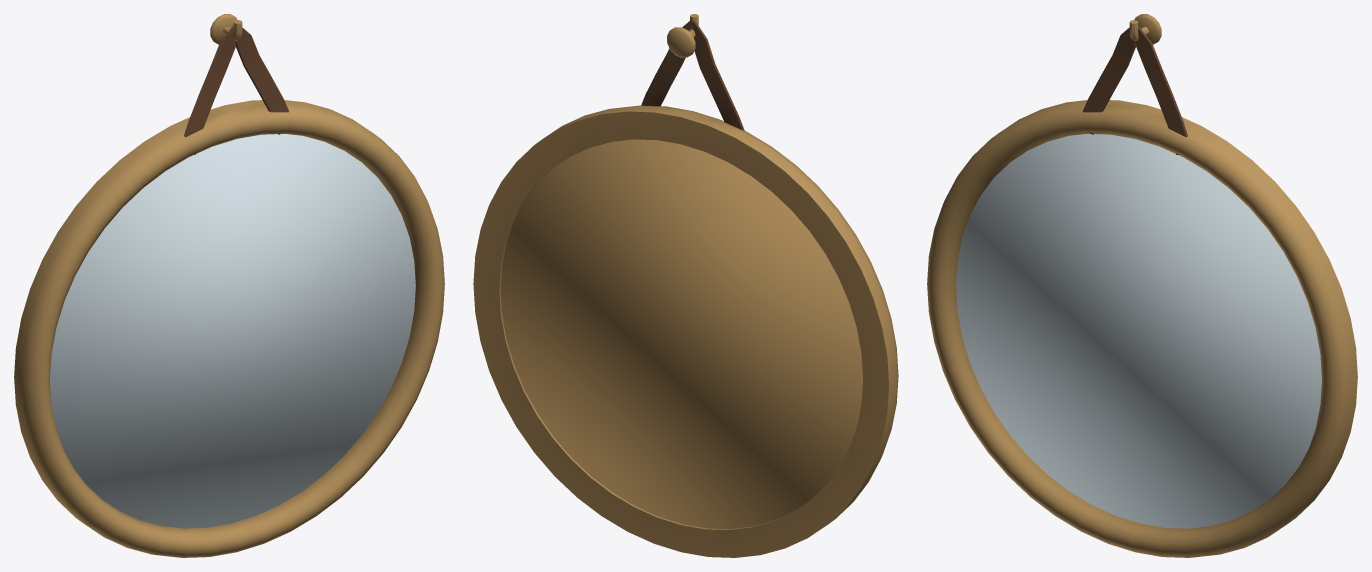
Rendered from mirrorRound.glb.
The picture shows the model from 3 angles, left to right: view 1: azimuth 30°, elevation 25°; view 2: azimuth 150°, elevation 25°; view 3: azimuth 330°, elevation 25°; orthographic projection.
Parts seen in each view (by area): view 1: mirrorRound; view 2: mirrorRound; view 3: mirrorRound.
Boxes of the visible parts, bbox=[...] form: mirrorRound: bbox=[14, 14, 444, 557]; mirrorRound: bbox=[473, 14, 898, 557]; mirrorRound: bbox=[927, 14, 1357, 557].
Size of the model in its own units: 0.64 by 0.775 by 0.046.
